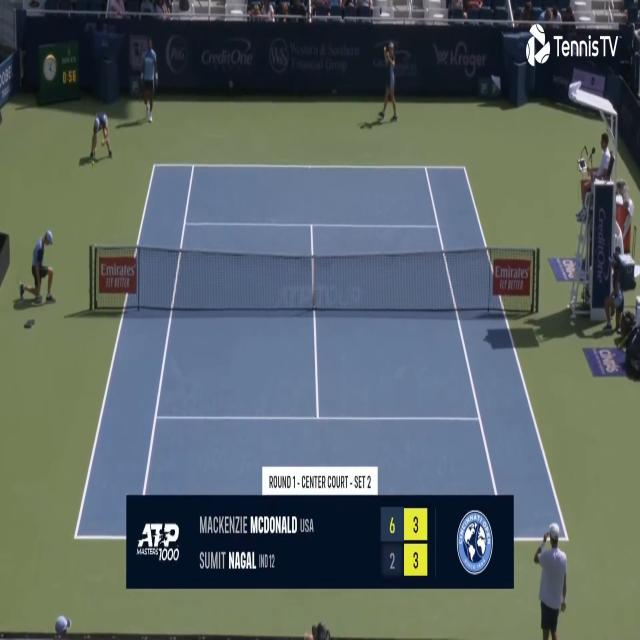tennis-player: (533, 520, 569, 639), (132, 34, 159, 125)
